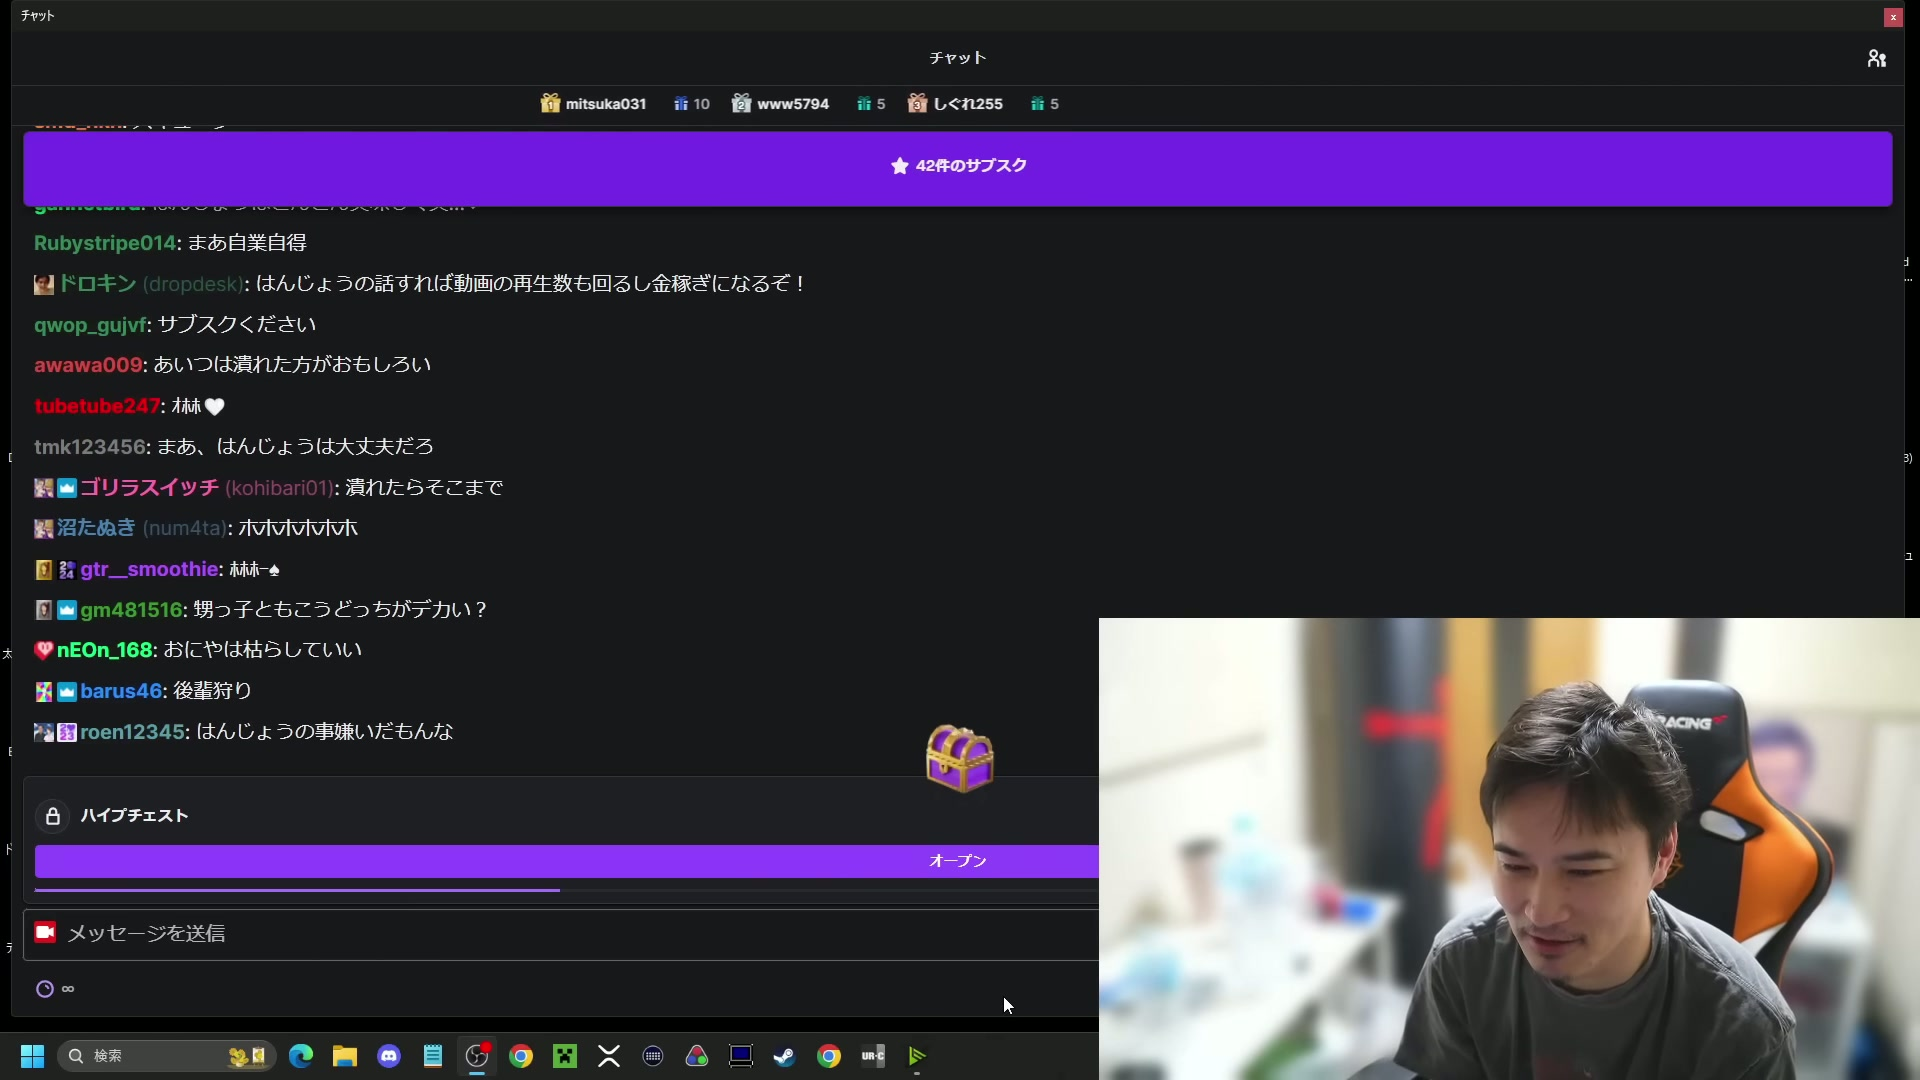stream_tag: (1098, 612, 1920, 1080)
